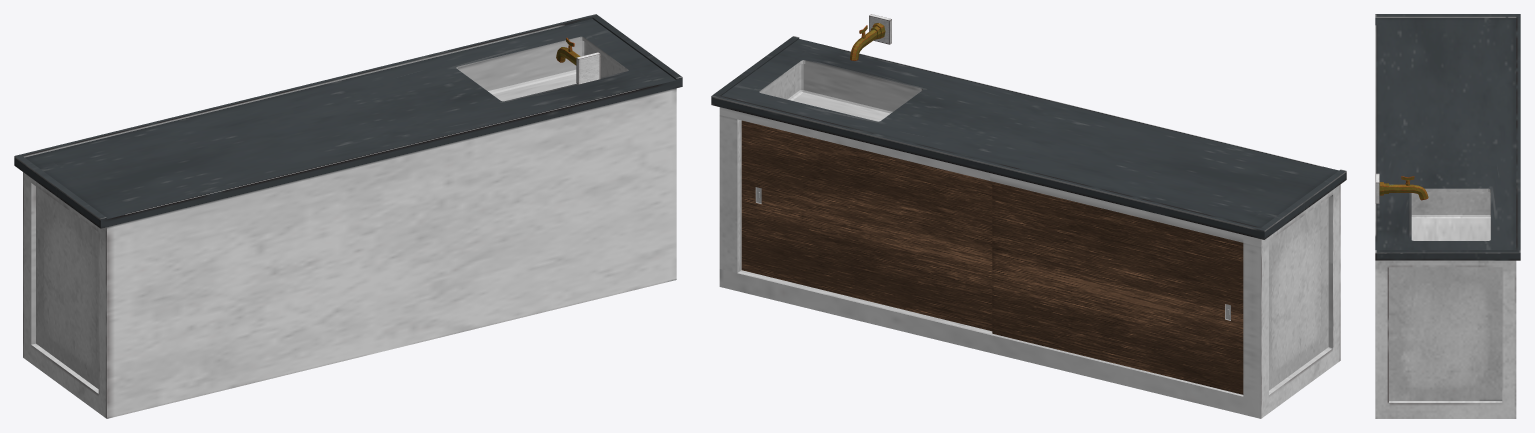
File: Pia_Bar.fbx
The picture shows the model from 3 angles, left to right: view 1: azimuth 30°, elevation 25°; view 2: azimuth 150°, elevation 25°; view 3: azimuth 270°, elevation 25°; orthographic projection. The views are drawn at different scales.
Parts seen in each view (by area): view 1: Pia; view 2: Pia; view 3: Pia.
Part boxes in pixels (x1,y1,x2,y2): Pia: [14, 14, 682, 418]; Pia: [711, 14, 1346, 418]; Pia: [1375, 14, 1520, 418].
Bounding box in the file's own units: 287 × 116 × 73.7.
